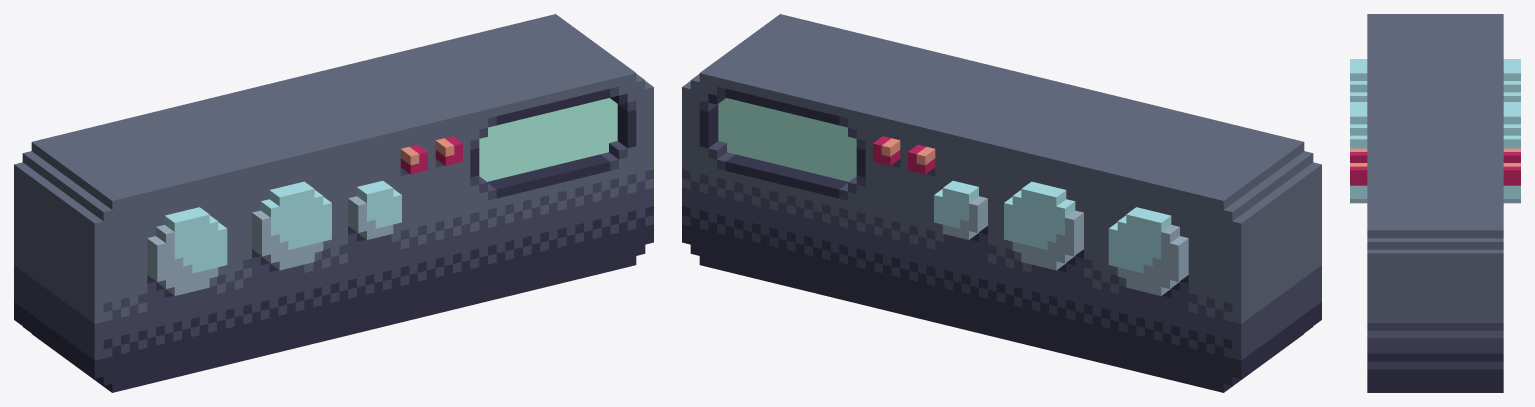
The model's file is telsiz_prop_bir_onyuz_genis.fbx.
The picture shows the model from 3 angles, left to right: view 1: azimuth 30°, elevation 25°; view 2: azimuth 150°, elevation 25°; view 3: azimuth 270°, elevation 25°; orthographic projection. The views are drawn at different scales.
Parts seen in each view (by area): view 1: generated; view 2: generated; view 3: generated.
Boxes of the visible parts, x1,y1,x2,y2 form: generated: (14,14,653,392); generated: (682,14,1321,392); generated: (1350,14,1520,392).
Size of the model in its own units: 640 by 210 by 200.
